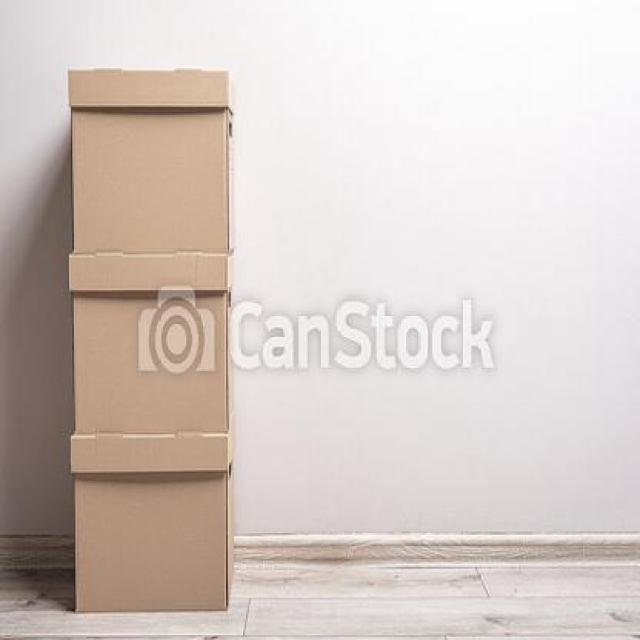box: (59, 46, 252, 249), (58, 435, 254, 618), (54, 251, 241, 434)
